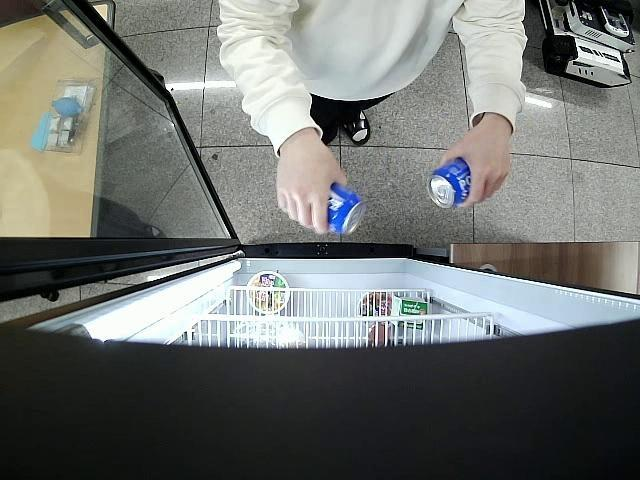13_pocariSweat: (326, 181, 366, 236), (428, 158, 472, 208)
